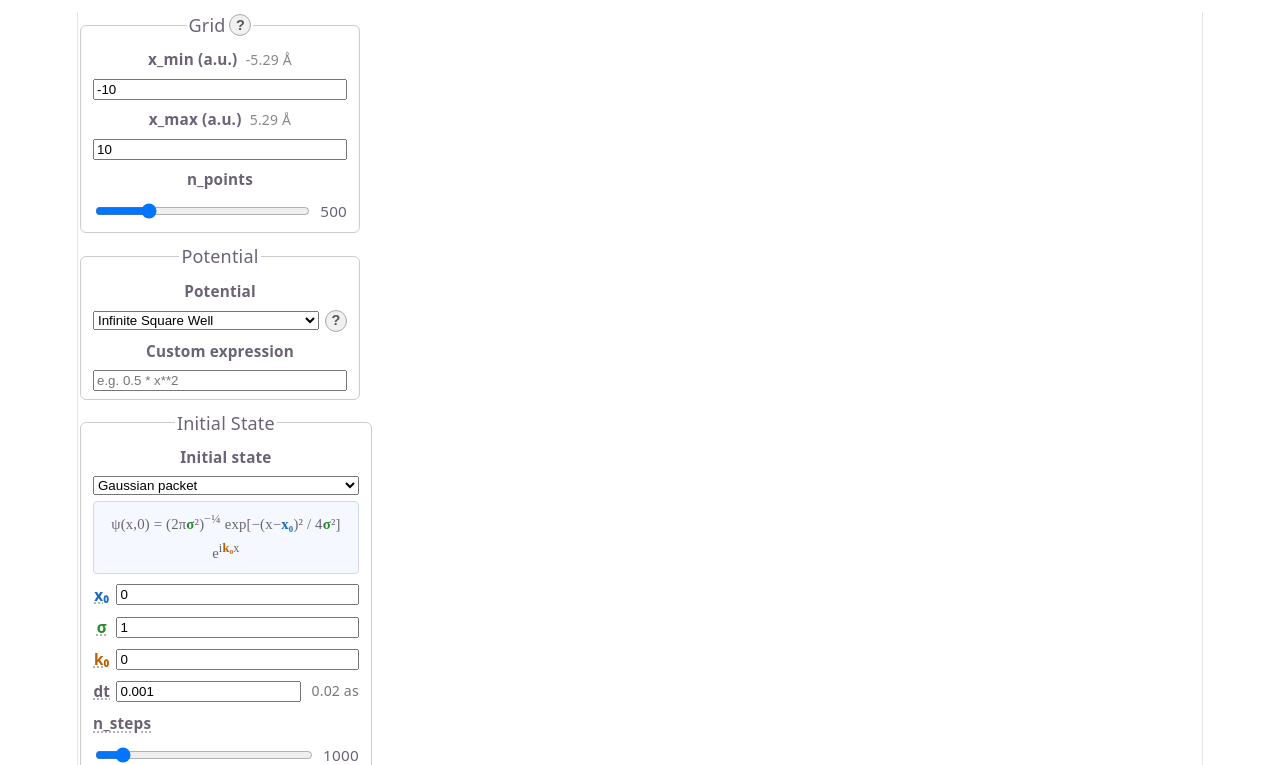
it: spec17 ControlPanel: superposition mode › quick-select ψ₀ sets c₀=1 and c₁=0
Select "Superposition of eigenstates" in the dropdown labelled "Initial state" at coordinates (226, 485), box top-left (93, 476), bottom-right (359, 495)
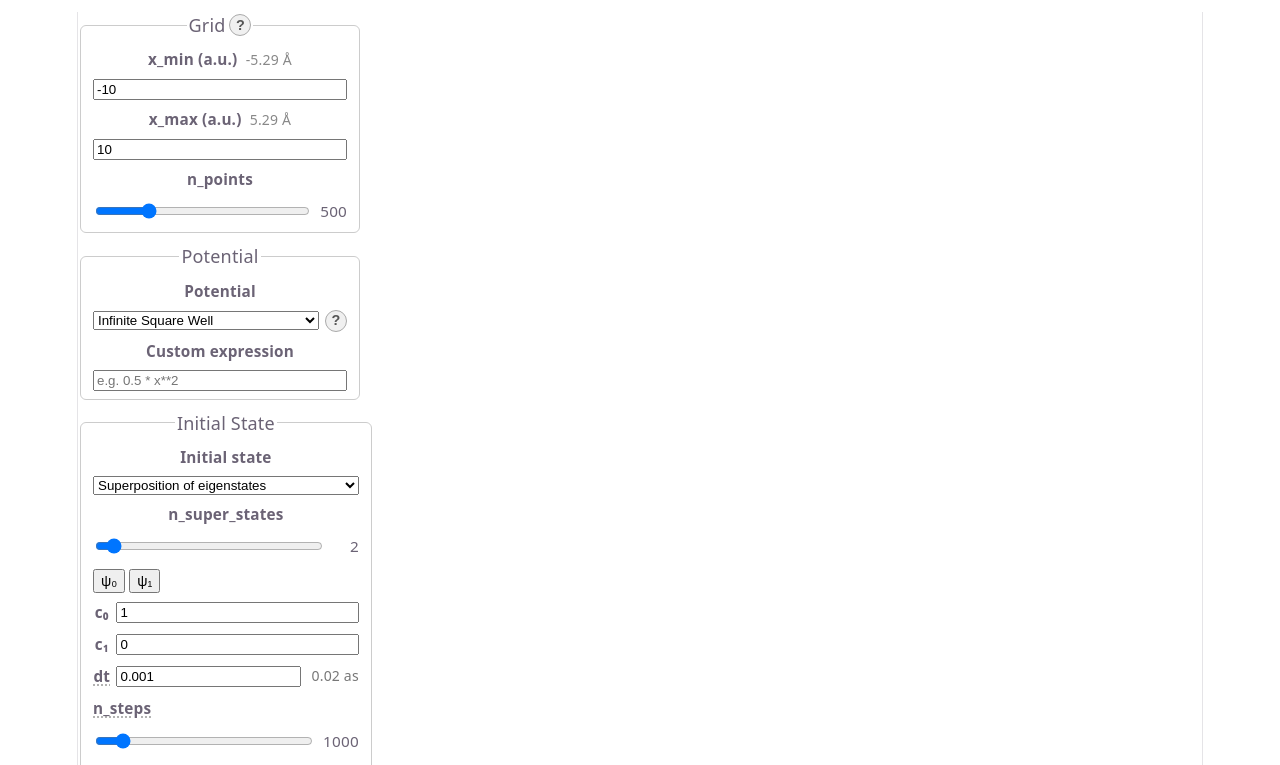
Click the button "ψ₁" at coordinates (145, 581), box top-left (129, 569), bottom-right (160, 593)
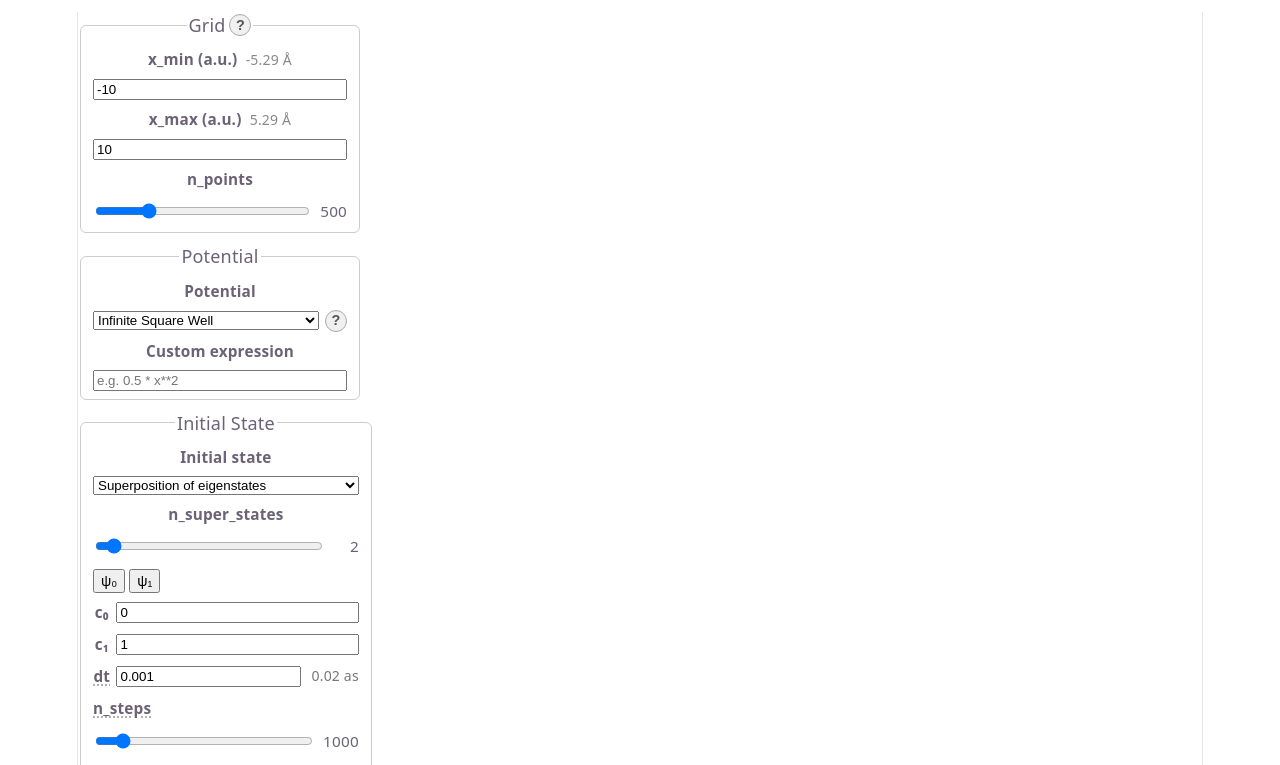
Now the number field labelled "c₀" holds "0", box top-left (116, 602), bottom-right (359, 623)
Now the number field labelled "c₁" holds "1", box top-left (116, 634), bottom-right (359, 655)
Click the button "ψ₀" at coordinates (109, 581), box top-left (93, 569), bottom-right (125, 593)
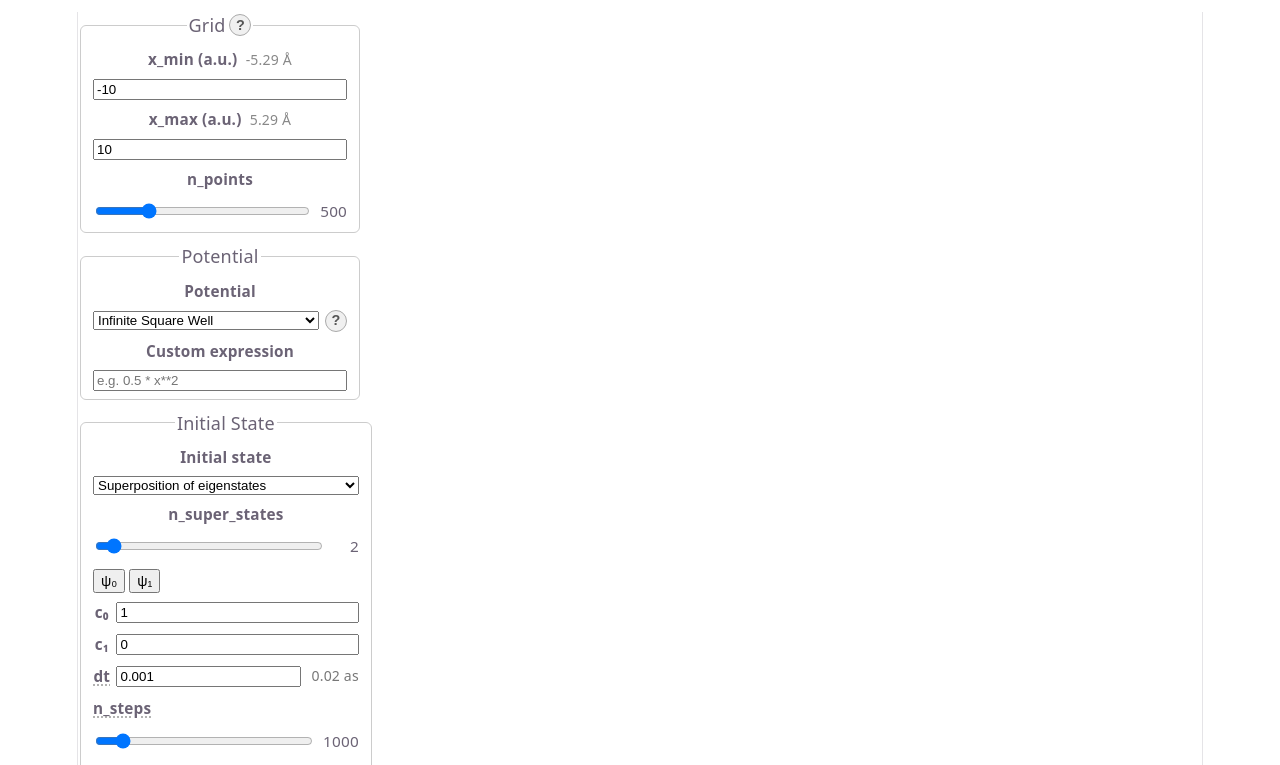
Now the number field labelled "c₀" holds "1", box top-left (116, 602), bottom-right (359, 623)
Now the number field labelled "c₁" holds "0", box top-left (116, 634), bottom-right (359, 655)
